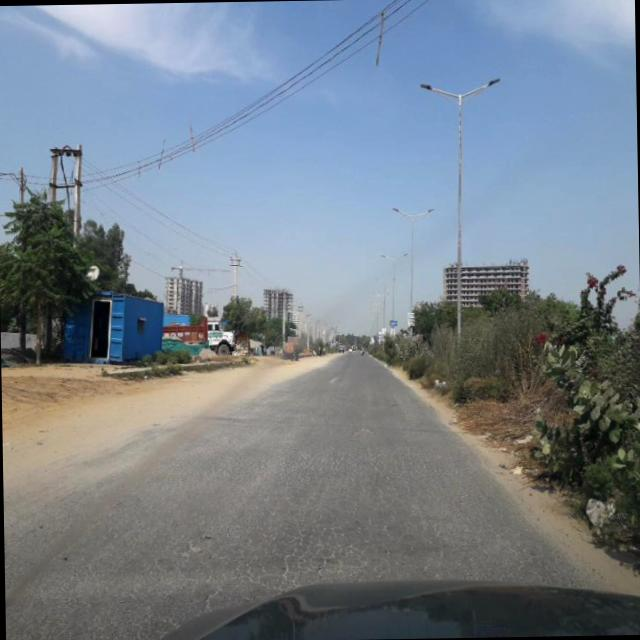crack: (80, 440, 538, 582)
